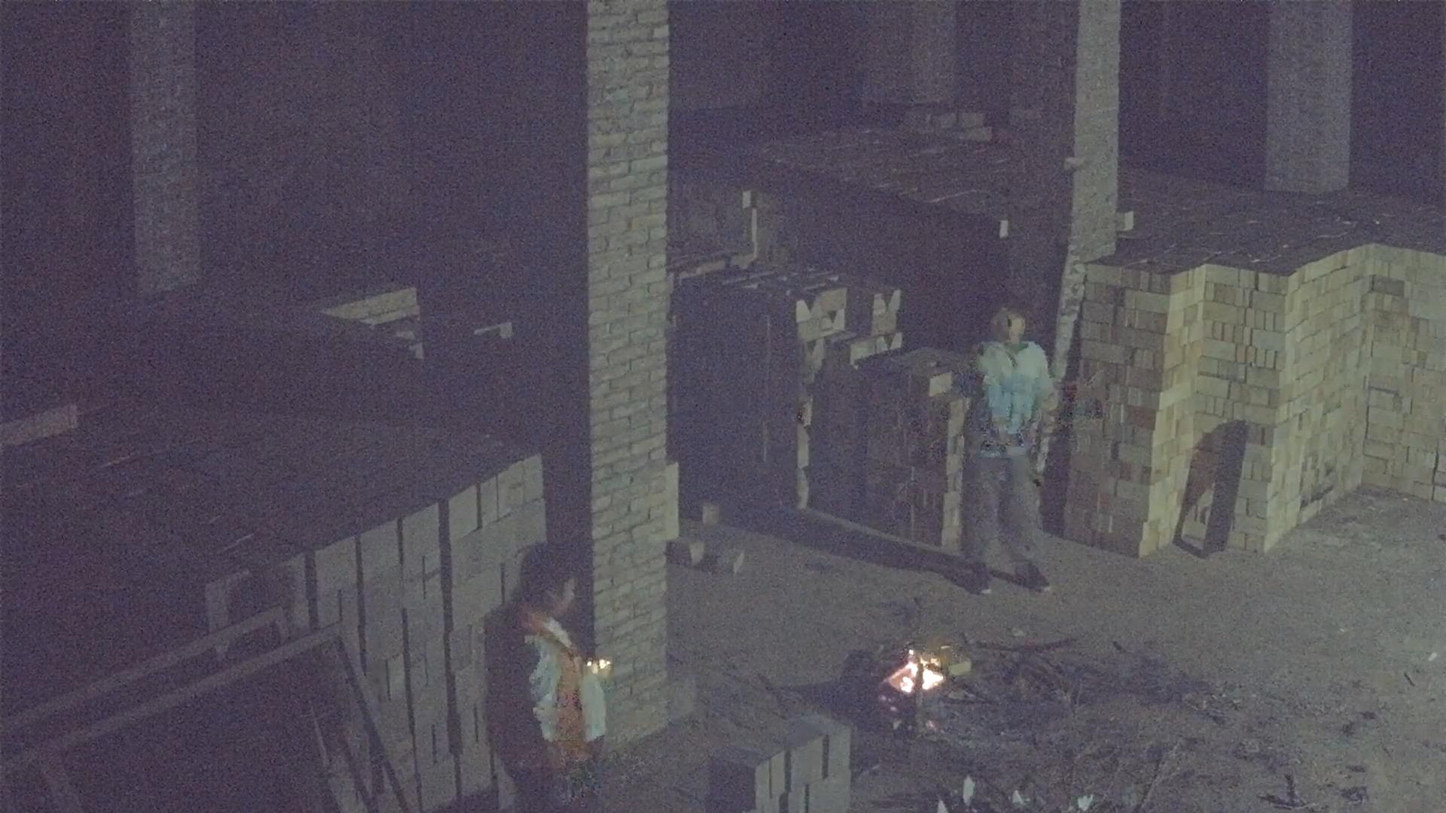fire: (884, 649, 945, 695)
